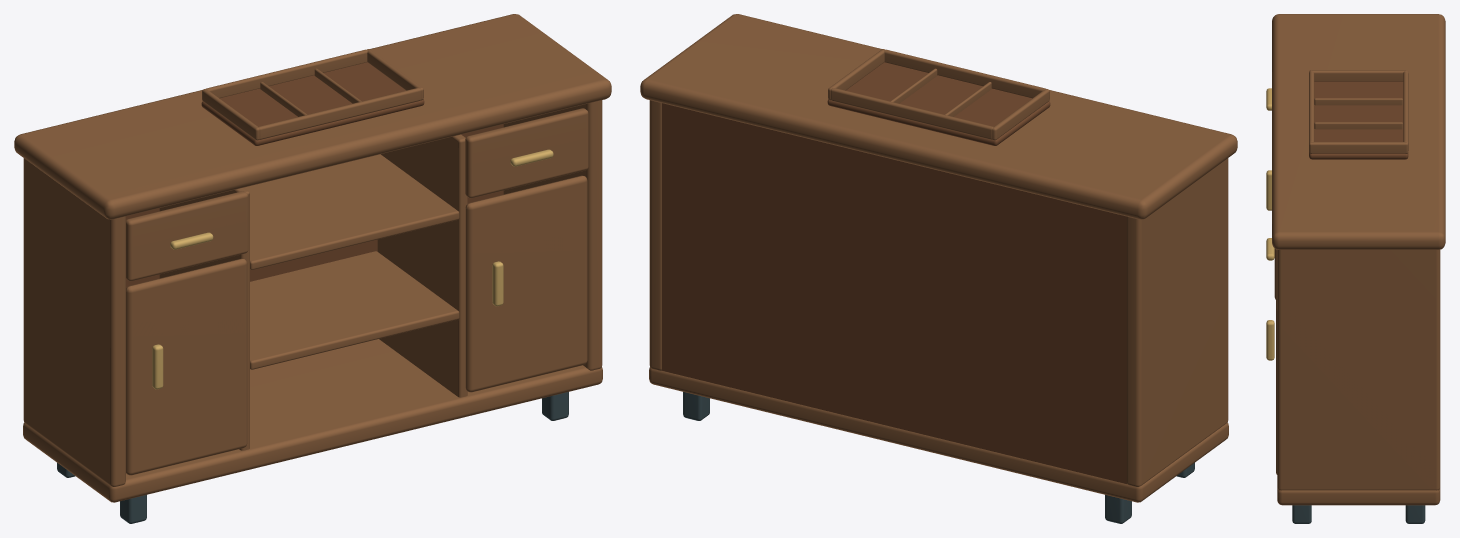
File: HotelTogether-DiningSideboard.glb
3 views of the same model, side by side, from view 1: azimuth 30°, elevation 25°; view 2: azimuth 150°, elevation 25°; view 3: azimuth 270°, elevation 25° (orthographic). The views are drawn at different scales.
Visible parts, largest first — view 1: Sideboard_Top, Sideboard_Side, Sideboard_Bottom, Sideboard_Door.001, Sideboard_Door, Sideboard_OpenShelf, Sideboard_OpenShelf.001, Sideboard_Divider.001, Sideboard_Drawer.001, Sideboard_Drawer, Sideboard_TrayBase, Sideboard_Side.001 (+6 smaller); view 2: Sideboard_Back, Sideboard_Top, Sideboard_Side, Sideboard_Bottom, Sideboard_TrayBase, Sideboard_Side.001, Sideboard_TrayEdge.001, Sideboard_TrayEdge, Sideboard_TraySide, Sideboard_TraySide.001; view 3: Sideboard_Side.001, Sideboard_Top, Sideboard_TrayBase, Sideboard_Bottom, Sideboard_TraySide.001, Sideboard_TraySide, Sideboard_TrayDivider, Sideboard_TrayDivider.001, Sideboard_TrayEdge.001, Sideboard_TrayEdge, Sideboard_Foot.003, Sideboard_Foot.002 (+3 smaller).
Boxes of the visible parts, x1,y1,x2,y2 form: Sideboard_Top: [14, 14, 611, 219]; Sideboard_Side: [23, 158, 125, 486]; Sideboard_Bottom: [23, 339, 602, 502]; Sideboard_Door.001: [465, 175, 587, 392]; Sideboard_Door: [126, 258, 247, 475]; Sideboard_OpenShelf: [250, 251, 459, 369]; Sideboard_OpenShelf.001: [244, 154, 459, 269]; Sideboard_Divider.001: [377, 134, 467, 397]; Sideboard_Drawer.001: [465, 108, 588, 198]; Sideboard_Drawer: [126, 191, 248, 281]; Sideboard_TrayBase: [201, 62, 424, 145]; Sideboard_Side.001: [503, 100, 602, 370]; Sideboard_Back: [661, 103, 1126, 483]; Sideboard_Top: [640, 14, 1237, 219]; Sideboard_Side: [1126, 158, 1228, 486]; Sideboard_Bottom: [649, 367, 1228, 502]; Sideboard_TrayBase: [827, 62, 1050, 145]; Sideboard_Side.001: [649, 100, 661, 370]; Sideboard_TrayEdge.001: [831, 88, 993, 139]; Sideboard_TrayEdge: [884, 49, 1045, 98]; Sideboard_TraySide: [992, 89, 1049, 140]; Sideboard_TraySide.001: [828, 49, 884, 100]; Sideboard_Side.001: [1277, 249, 1440, 490]; Sideboard_Top: [1272, 14, 1445, 249]; Sideboard_TrayBase: [1309, 81, 1408, 159]; Sideboard_Bottom: [1277, 488, 1440, 505]; Sideboard_TraySide.001: [1309, 142, 1408, 153]; Sideboard_TraySide: [1309, 70, 1407, 81]; Sideboard_TrayDivider: [1314, 98, 1402, 105]; Sideboard_TrayDivider.001: [1314, 122, 1402, 129]; Sideboard_TrayEdge.001: [1403, 71, 1408, 150]; Sideboard_TrayEdge: [1309, 71, 1314, 143]; Sideboard_Foot.003: [1405, 505, 1425, 523]; Sideboard_Foot.002: [1292, 505, 1311, 523].
Bounding box in the file's own units: 1.49 × 1 × 0.5055.
